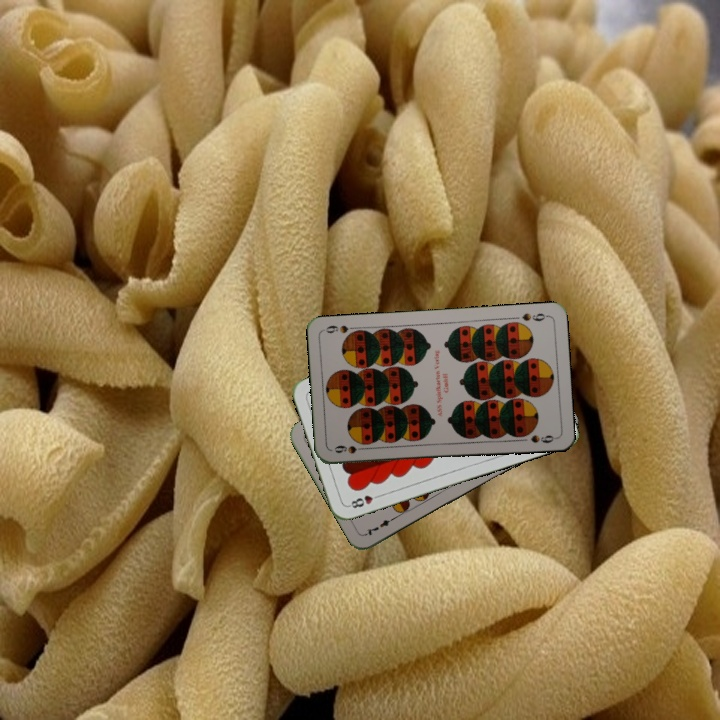E7: (362, 512, 399, 538)
H8: (344, 490, 384, 511)
S9: (330, 441, 370, 456), (518, 309, 551, 324)
